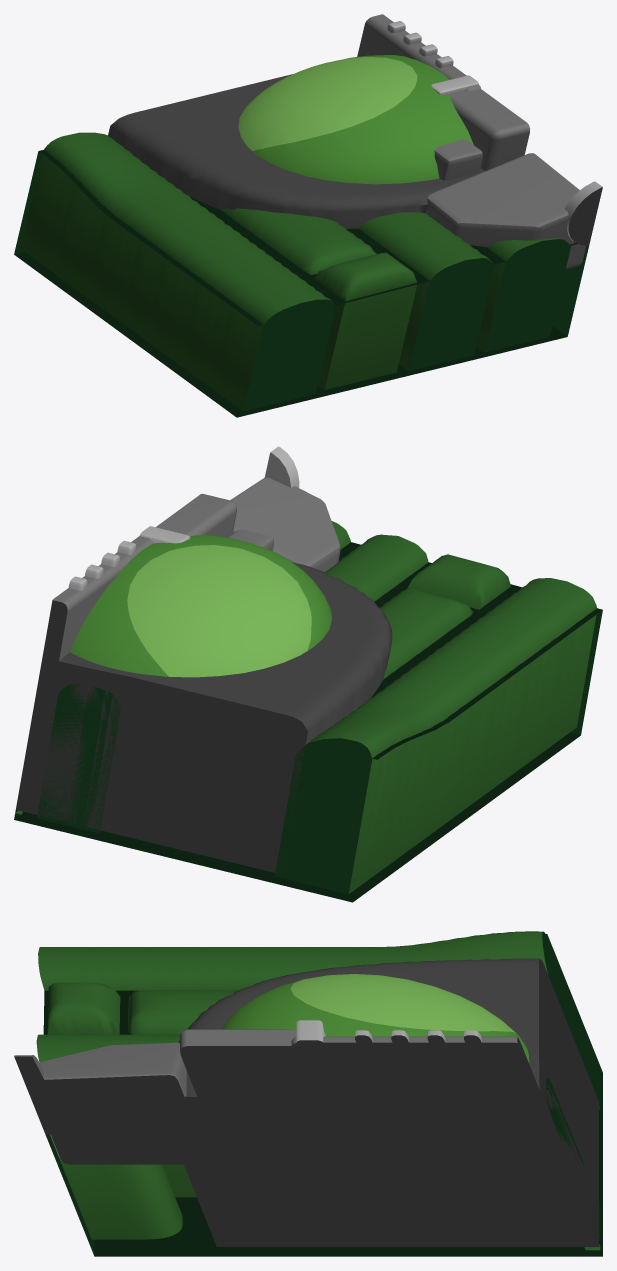
Rendered from green_shell_199.glb.
3 views of the same model, one above another, from view 1: azimuth 30°, elevation 25°; view 2: azimuth 150°, elevation 25°; view 3: azimuth 270°, elevation 25° (orthographic). The views are drawn at different scales.
Parts seen in each view (by area): view 1: green_shell_199; view 2: green_shell_199; view 3: green_shell_199.
Part boxes in pixels (x1=…): green_shell_199: x1=14, y1=14, x2=602, y2=417; green_shell_199: x1=14, y1=446, x2=602, y2=902; green_shell_199: x1=14, y1=931, x2=602, y2=1256.
Bounding box in the file's own units: 24 × 13.45 × 32.43.
